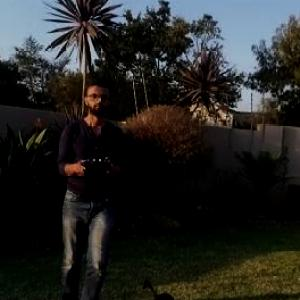follow: (49, 81, 129, 299)
